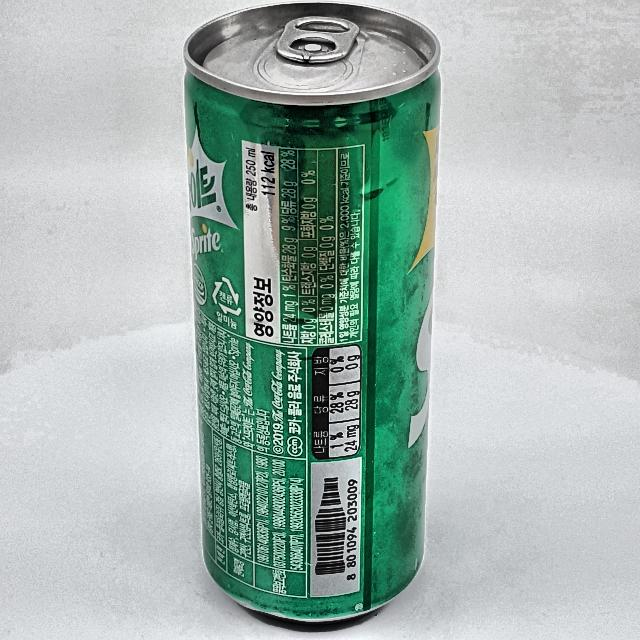sprite: (184, 2, 440, 622)
